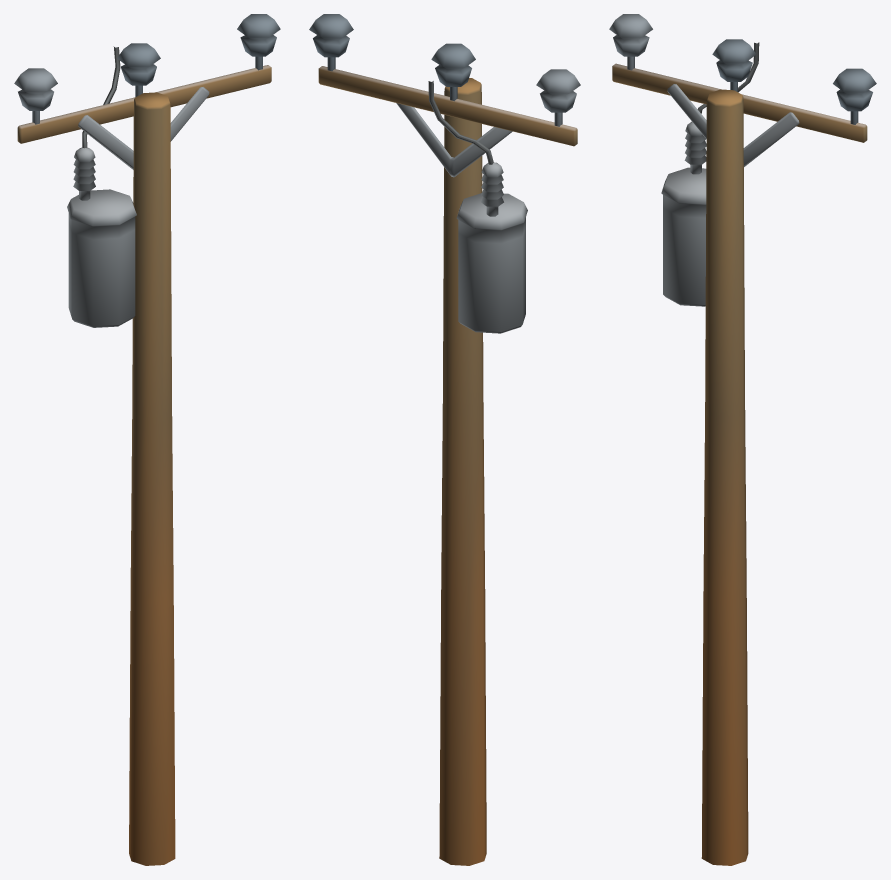
Rendered from TelegraphPole01.glb.
The picture shows the model from 3 angles, left to right: view 1: azimuth 30°, elevation 25°; view 2: azimuth 150°, elevation 25°; view 3: azimuth 330°, elevation 25°; orthographic projection.
Parts seen in each view (by area): view 1: TelegraphPole01; view 2: TelegraphPole01; view 3: TelegraphPole01.
Boxes of the visible parts, <box> form: TelegraphPole01: <box>14,14,280,865</box>; TelegraphPole01: <box>309,14,580,865</box>; TelegraphPole01: <box>609,14,876,865</box>.
Bounding box in the file's own units: 2.29 × 6.8 × 0.7174.
